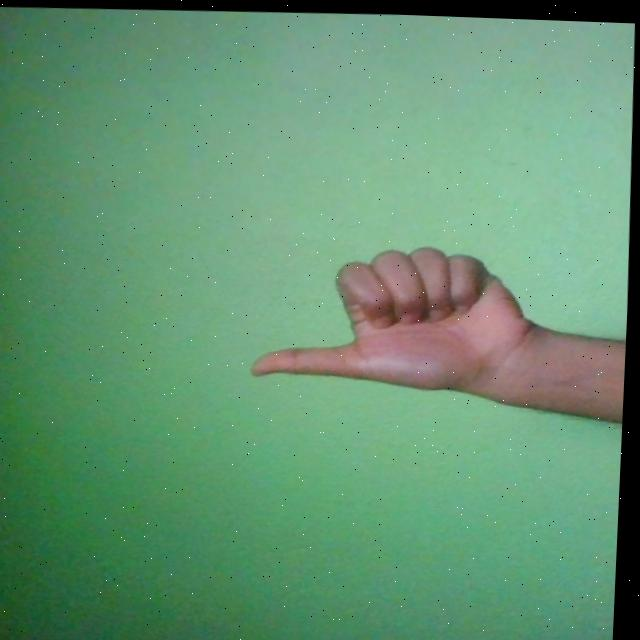Good Job: (252, 235, 541, 392)
